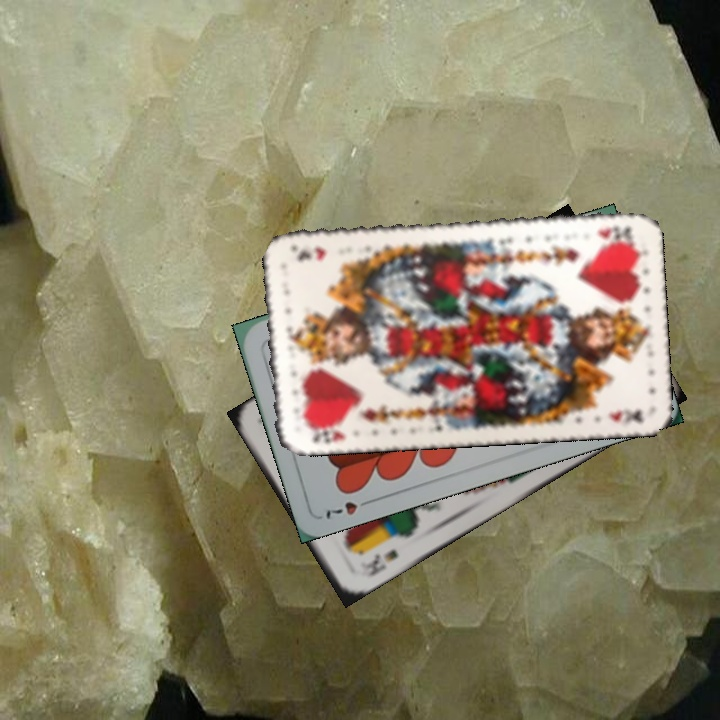EK: (355, 545, 401, 581)
H7: (321, 495, 377, 522)
HK: (300, 418, 348, 447), (593, 221, 634, 243)
